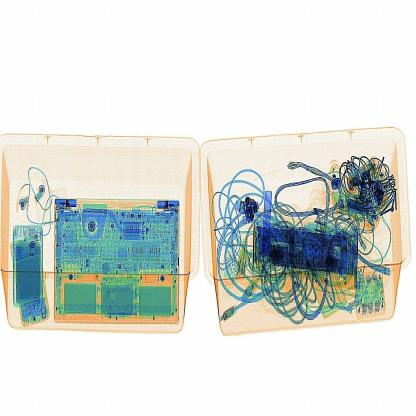pliers: (258, 188, 281, 268)
